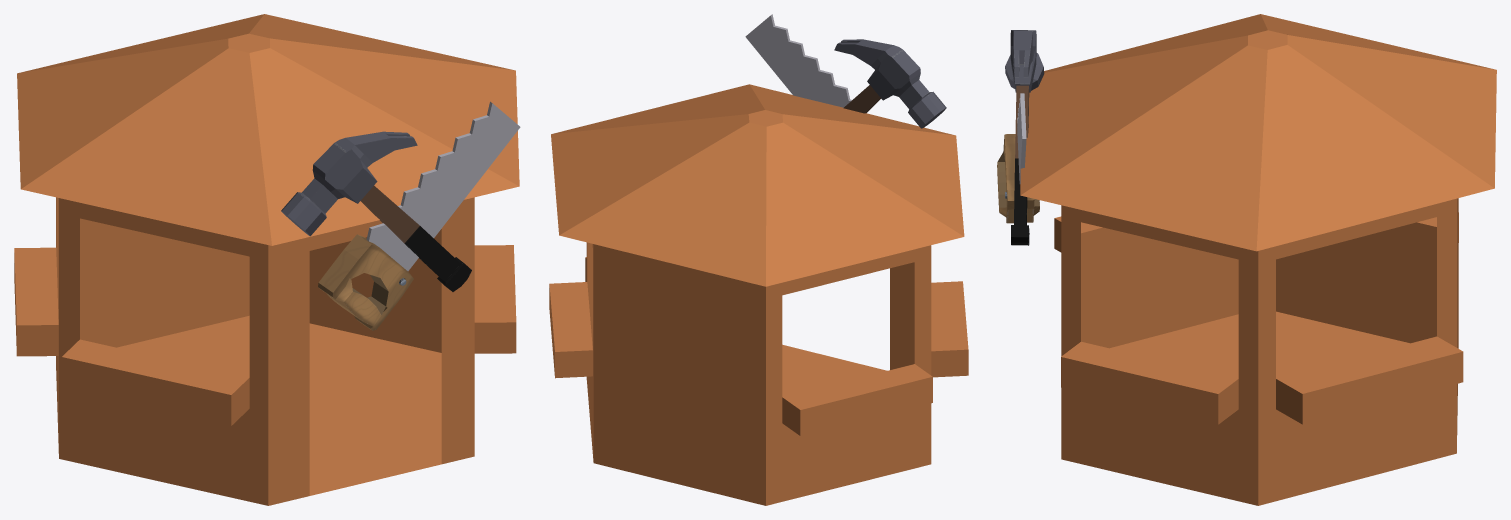
Rendered from Caseta.fbx.
The picture shows the model from 3 angles, left to right: view 1: azimuth 30°, elevation 25°; view 2: azimuth 150°, elevation 25°; view 3: azimuth 270°, elevation 25°; orthographic projection. The views are drawn at different scales.
Parts seen in each view (by area): view 1: Cube.001, Handle, Cube.002; view 2: Cube.001, Cube.002, Handle; view 3: Cube.001, Cube.002, Handle.
Part boxes in pixels (left/top/right/bottom): Cube.001: left=14, top=14, right=519, bottom=505; Handle: left=318, top=101, right=520, bottom=330; Cube.002: left=281, top=131, right=471, bottom=291; Cube.001: left=549, top=84, right=968, bottom=505; Cube.002: left=834, top=39, right=946, bottom=128; Handle: left=745, top=14, right=851, bottom=107; Cube.001: left=1020, top=14, right=1496, bottom=505; Cube.002: left=1005, top=30, right=1044, bottom=245; Handle: left=997, top=93, right=1039, bottom=223.
Size of the model in its own units: 998 by 714 by 888.
